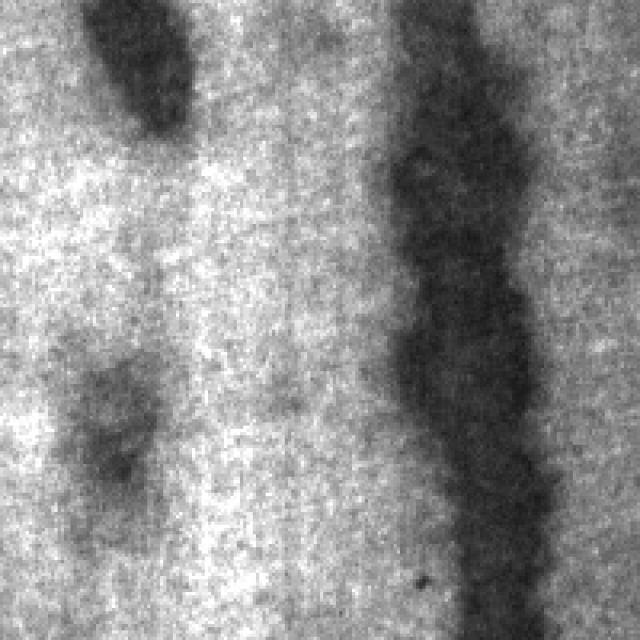patches: (377, 0, 547, 630), (64, 0, 195, 134), (58, 339, 163, 486)
